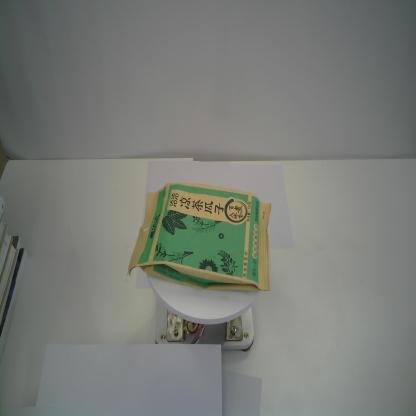Dried Food: (127, 181, 272, 296)
